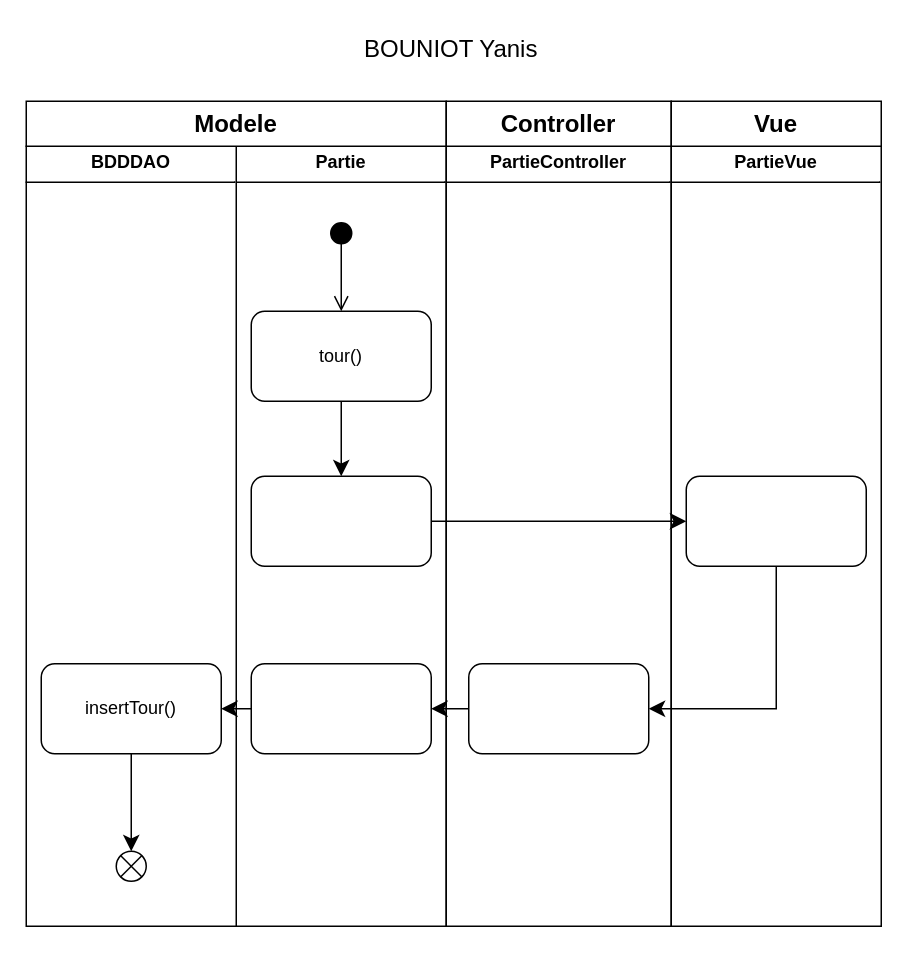
Image size: 908x953. Some labels were removed from this diagram. Each missing label, with the centre of its shape:
actionJoueur(): [558,708]
miseAjourVue(): [775,520]
piocherCarte(joueur): [340,520]
sauvegardeTour(): [340,708]
